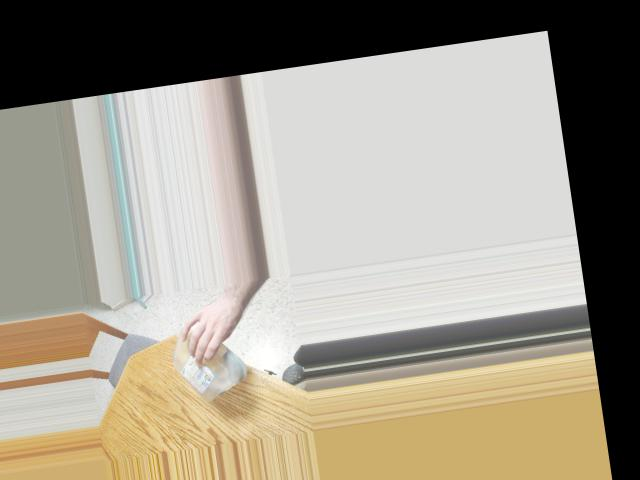cheese: (164, 309, 249, 408)
